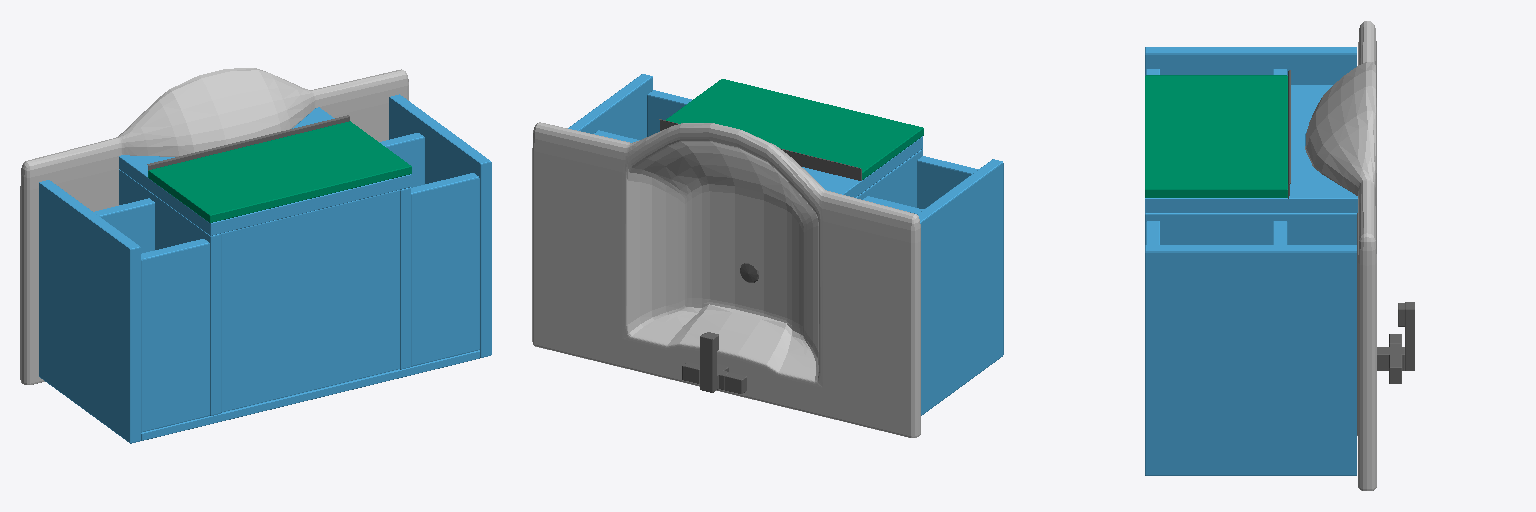
The robot description file, URDF, robot "183":
<robot name="183">


	<link name="0:virtual">
		<visual>
			<origin xyz="0.0 0.0 0.0" rpy="0 0 0"/>
			<geometry>
				<cylinder length="0" radius="0"/>
			</geometry>
		</visual>
	</link>


	<link name="1:static">
		<visual>
			<origin xyz="-0.0 -0.0 -0.0" rpy="0 0 0"/>
			<geometry>
				<mesh filename="../raw_data/183/part_meshes/1.dae" />
			</geometry>
		</visual>
	</link>


	<link name="2:drawer 1">
		<visual>
			<origin xyz="-0.0 -0.13599950457089038 0.051110006868839264" rpy="0 0 0"/>
			<geometry>
				<mesh filename="../raw_data/183/part_meshes/2.dae" />
			</geometry>
		</visual>
	</link>


	<link name="3:faucet handle 1">
		<visual>
			<origin xyz="-0.053959401324391365 -0.4762919992208481 0.28250350058078766" rpy="0 0 0"/>
			<geometry>
				<mesh filename="../raw_data/183/part_meshes/3.dae" />
			</geometry>
		</visual>
	</link>


	<link name="4:faucet handle 2">
		<visual>
			<origin xyz="0.053959401324391365 -0.4762919992208481 0.28250350058078766" rpy="0 0 0"/>
			<geometry>
				<mesh filename="../raw_data/183/part_meshes/4.dae" />
			</geometry>
		</visual>
	</link>


	<joint name="0:virtual::1:static" type="fixed">
		<parent link="0:virtual"/>
		<child link="1:static"/>
		<origin xyz="0.0 0.0 0.0" rpy="0 0 0"/>
	</joint>


	<joint name="0:virtual::2:drawer 1_translation" type="prismatic">
		<parent link="0:virtual"/>
		<child link="2:drawer 1"/>
		<origin xyz="0.0 0.13599950457089038 -0.051110006868839264" rpy="0 0 0"/>
		<limit lower="-0.0001754917502403" upper="0.41482450824976" effort="10" velocity="3"/>
		<axis xyz="0.0 0.0 1.0"/>
	</joint>


	<joint name="0:virtual::3:faucet handle 1_rotation" type="revolute">
		<parent link="0:virtual"/>
		<child link="3:faucet handle 1"/>
		<origin xyz="0.053959401324391365 0.4762919992208481 -0.28250350058078766" rpy="0 0 0"/>
		<limit lower="-3.141592653589793" upper="3.141592653589793" effort="10" velocity="3"/>
		<axis xyz="1.0 0.0 0.0"/>
	</joint>


	<joint name="0:virtual::4:faucet handle 2_rotation" type="revolute">
		<parent link="0:virtual"/>
		<child link="4:faucet handle 2"/>
		<origin xyz="-0.053959401324391365 0.4762919992208481 -0.28250350058078766" rpy="0 0 0"/>
		<limit lower="-3.141592653589793" upper="3.141592653589793" effort="10" velocity="3"/>
		<axis xyz="1.0 0.0 0.0"/>
	</joint>


</robot>

--- Render facts (derived) ---
3 views of the same robot in one strip: view 1: azimuth 30°, elevation 25°; view 2: azimuth 150°, elevation 25°; view 3: azimuth 270°, elevation 25° (orthographic).
Model 183 with 5 links and 4 joints (2 revolute, 1 prismatic, 1 fixed), rooted at 0:virtual, posed every joint at zero.
Links seen in each view (by area): view 1: 1:static, 2:drawer 1; view 2: 1:static, 2:drawer 1; view 3: 1:static, 2:drawer 1.
Link boxes in pixels (x1=…): 1:static: x1=20, y1=68, x2=491, y2=443; 2:drawer 1: x1=148, y1=121, x2=411, y2=222; 1:static: x1=532, y1=74, x2=1003, y2=437; 2:drawer 1: x1=666, y1=79, x2=923, y2=179; 1:static: x1=1145, y1=21, x2=1414, y2=490; 2:drawer 1: x1=1145, y1=75, x2=1287, y2=197.
Bounding box of the posed robot: 0.98 × 0.5139 × 0.6398 m (x, y, z).
Meshes: 4 distinct files referenced, 4 mesh visuals loaded (4 Collada DAE).